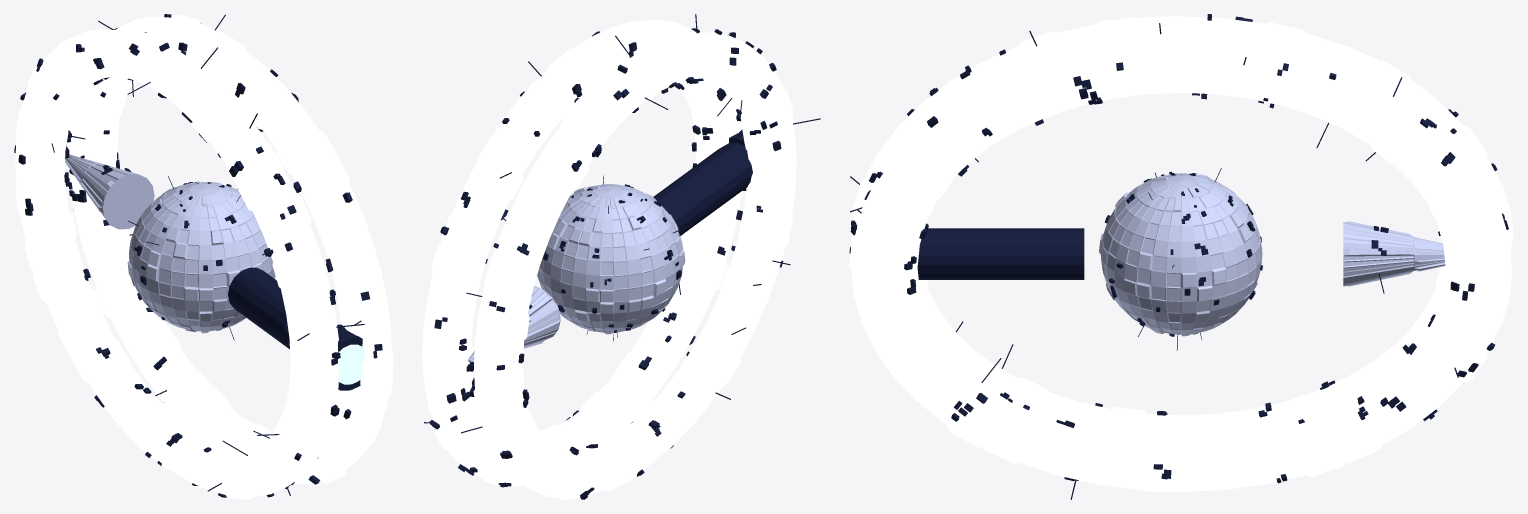
The model's file is velari_cruiser.glb.
3 renders of one model, left to right at view 1: azimuth 30°, elevation 25°; view 2: azimuth 150°, elevation 25°; view 3: azimuth 270°, elevation 25°, orthographic. The views are drawn at different scales.
Parts seen in each view (by area): view 1: velari_cruiser; view 2: velari_cruiser; view 3: velari_cruiser.
Part boxes in pixels (box(x1,y1,x2,y2)): velari_cruiser: box(14, 14, 393, 499); velari_cruiser: box(422, 14, 820, 499); velari_cruiser: box(849, 14, 1513, 499).
Size of the model in its own units: 2.76 by 7.68 by 10.06.
